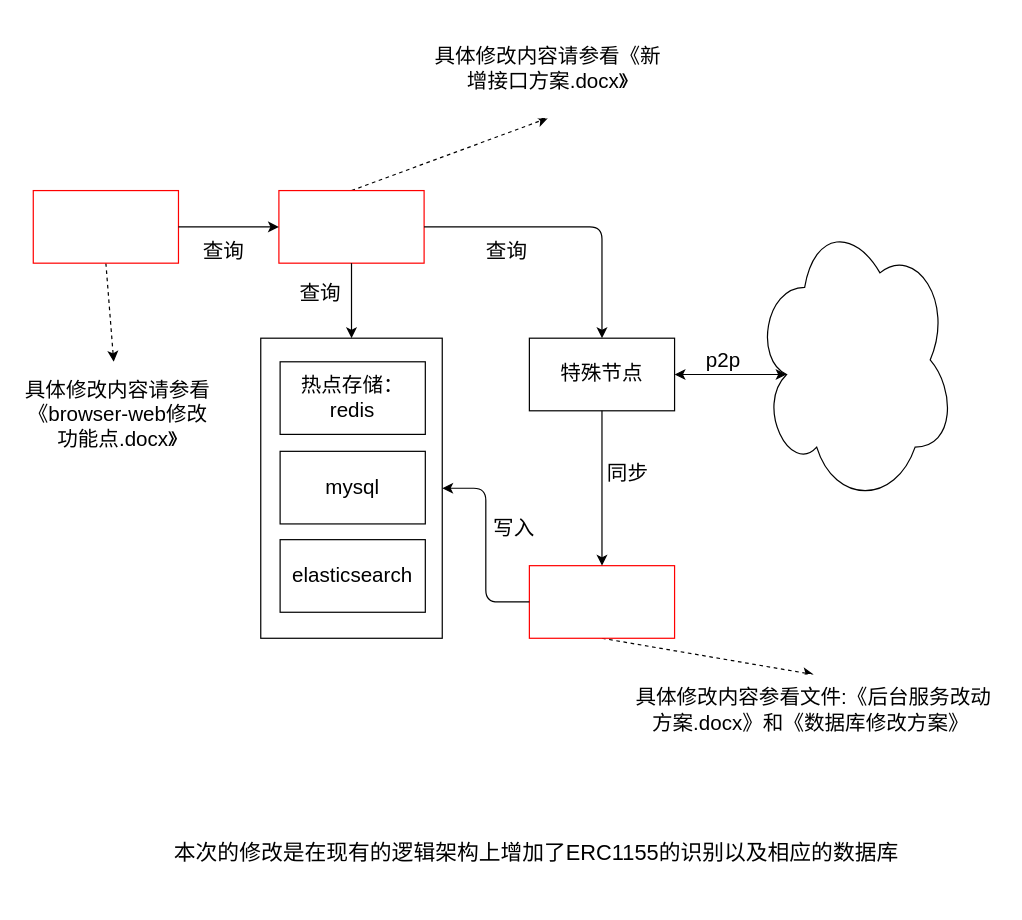
The diagram is 1022 pixels wide and 920 high, and some of its shapes have lost their labels. Here are the shapes that lost their labels. From the top down, the centre of each, then its label:
pixel 105 226: browser-web
pixel 351 226: 服务 browser-api
pixel 854 359: alaya or platon blockchain
pixel 601 601: 服务 browser-agent
